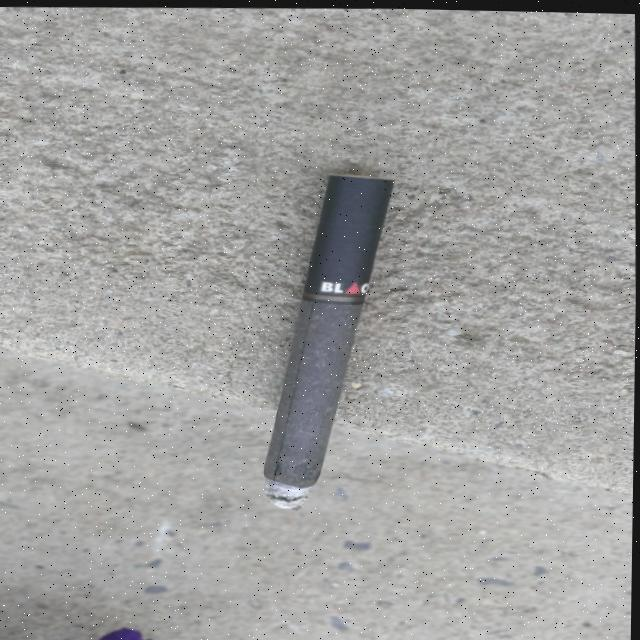cigarette: (263, 171, 395, 507)
